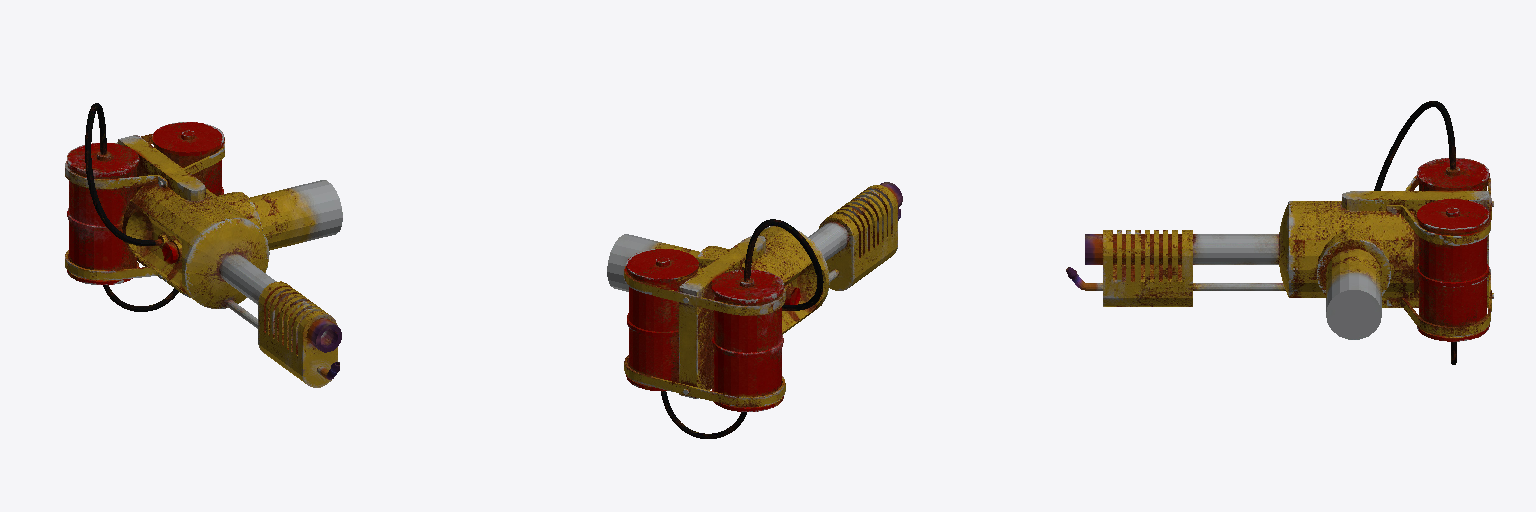
3 views of the same model, side by side, from view 1: azimuth 30°, elevation 25°; view 2: azimuth 150°, elevation 25°; view 3: azimuth 270°, elevation 25° (orthographic).
Parts seen in each view (by area): view 1: Hose003; view 2: Hose003; view 3: Hose003.
Boxes of the visible parts, x1,y1,x2,y2 form: Hose003: [65, 103, 342, 387]; Hose003: [607, 182, 902, 438]; Hose003: [1066, 101, 1493, 364].
Bounding box in the file's own units: 0.7401 × 0.7334 × 1.25.
1 materials, 1 textured.